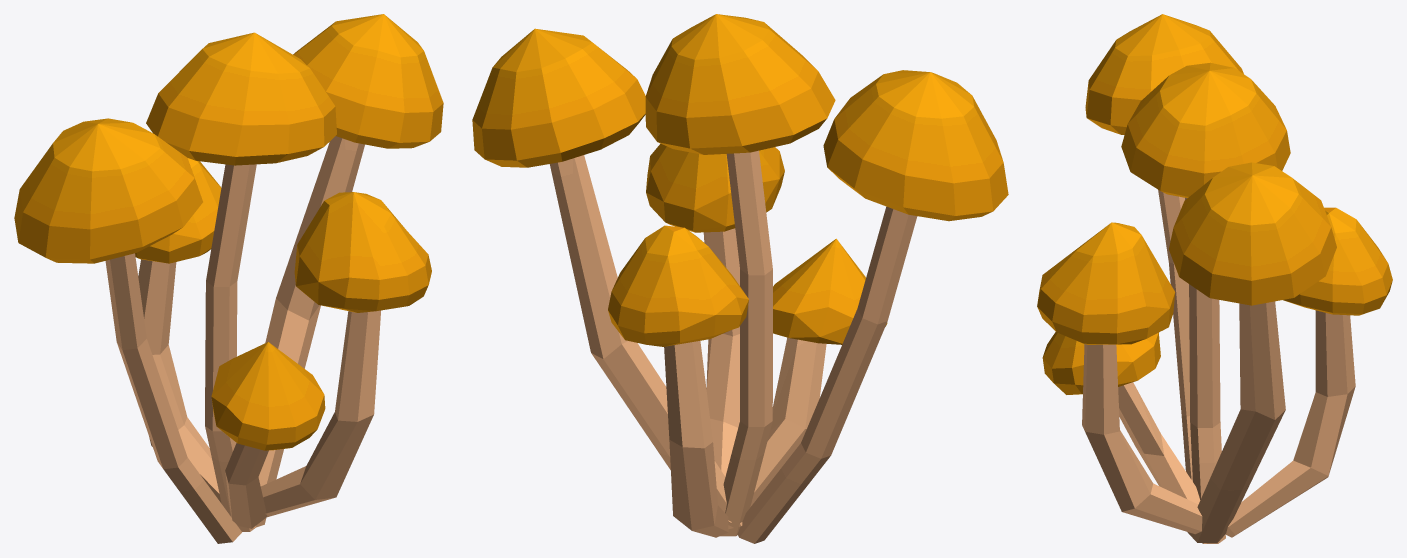
Rendered from giant_shroom.glb.
The picture shows the model from 3 angles, left to right: view 1: azimuth 30°, elevation 25°; view 2: azimuth 150°, elevation 25°; view 3: azimuth 270°, elevation 25°; orthographic projection. The views are drawn at different scales.
Parts seen in each view (by area): view 1: PP_Mushrooms_Brown_01; view 2: PP_Mushrooms_Brown_01; view 3: PP_Mushrooms_Brown_01.
Part boxes in pixels (bbox=[...]): PP_Mushrooms_Brown_01: bbox=[14, 14, 443, 543]; PP_Mushrooms_Brown_01: bbox=[472, 14, 1008, 543]; PP_Mushrooms_Brown_01: bbox=[1037, 14, 1392, 543].
Size of the model in its own units: 4.17 by 4.4 by 2.96.
Materials: 1 (1 with a texture image).
